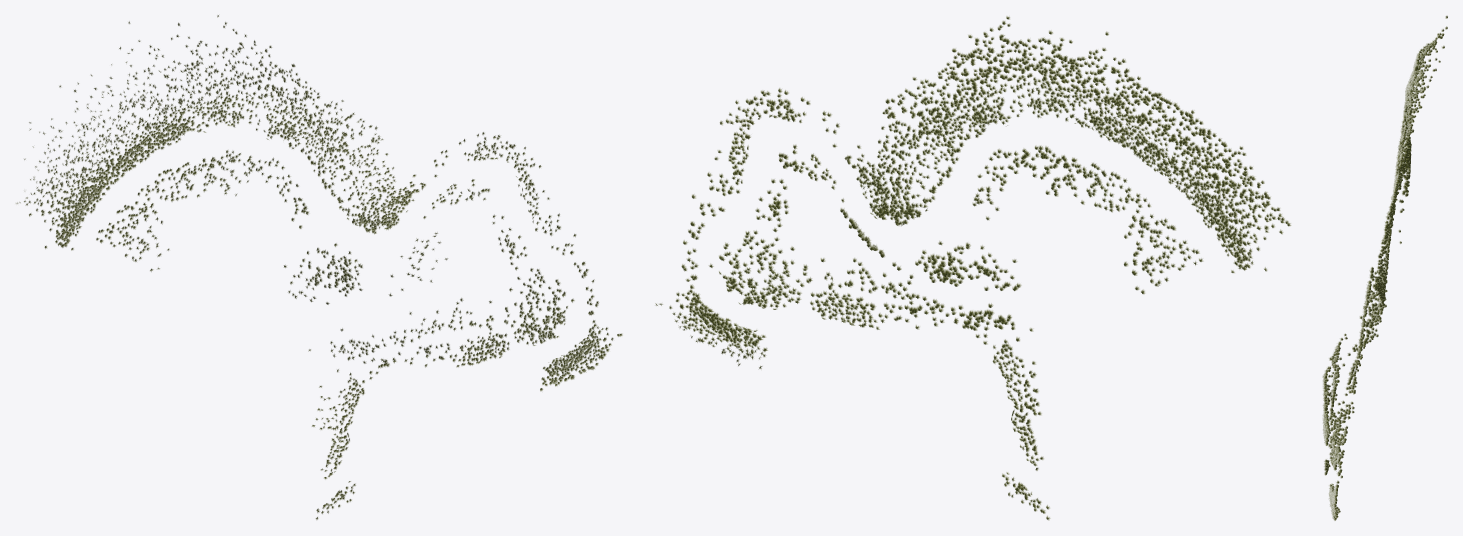
The model's file is trava_zelena.glb.
The picture shows the model from 3 angles, left to right: view 1: azimuth 30°, elevation 25°; view 2: azimuth 150°, elevation 25°; view 3: azimuth 270°, elevation 25°; orthographic projection. The views are drawn at different scales.
Visible parts, largest first — view 1: Background_Tree_Atlas.011_Grass_Vegetation_Green_0; view 2: Background_Tree_Atlas.011_Grass_Vegetation_Green_0; view 3: Background_Tree_Atlas.011_Grass_Vegetation_Green_0.
Part boxes in pixels (x1,y1,x2,y2): Background_Tree_Atlas.011_Grass_Vegetation_Green_0: (16,15,622,519); Background_Tree_Atlas.011_Grass_Vegetation_Green_0: (655,16,1290,520); Background_Tree_Atlas.011_Grass_Vegetation_Green_0: (1323,16,1447,520).
Bounding box in the file's own units: 269 × 218 × 61.3.
1 material, 1 textured.
